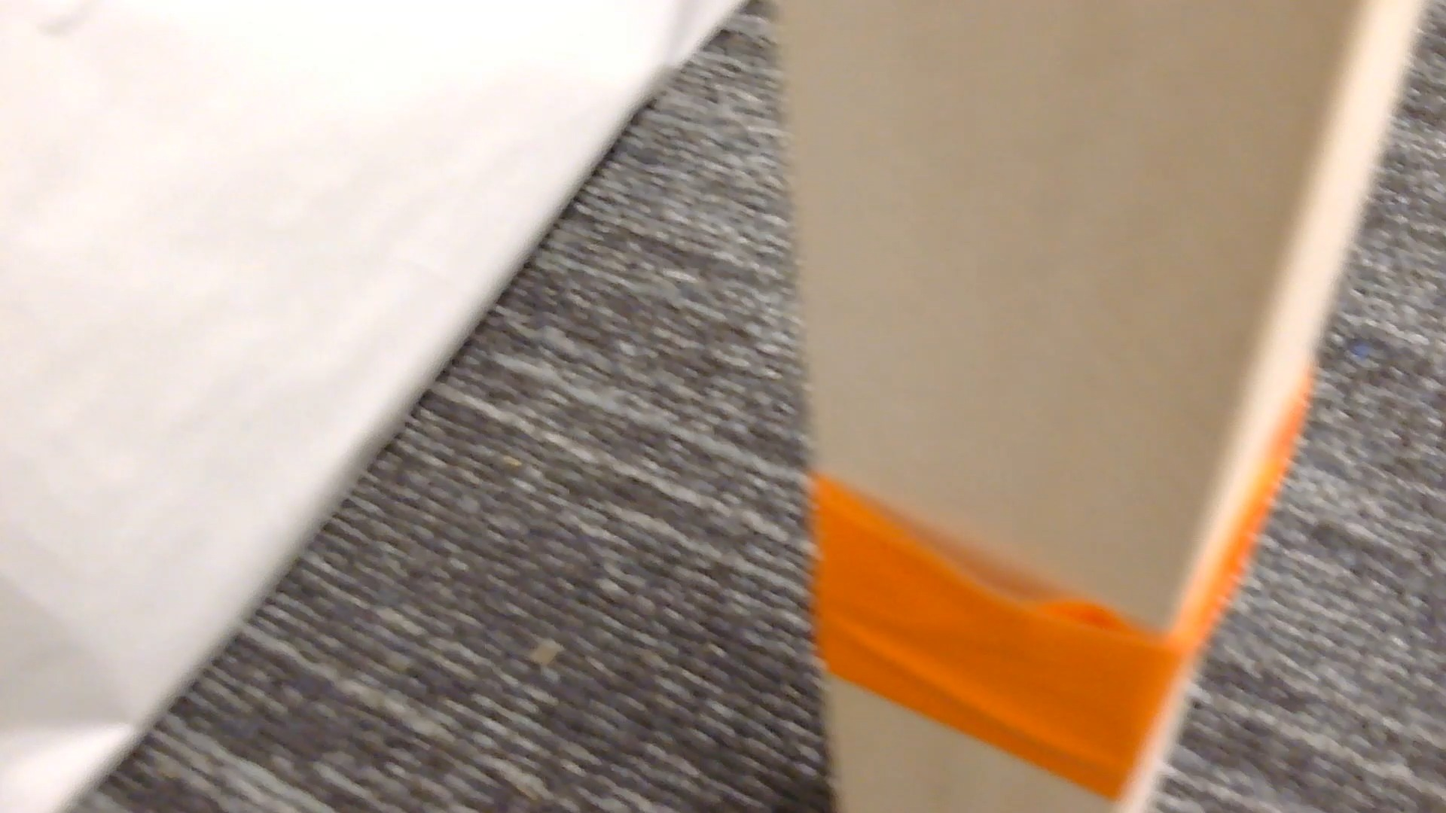Wooden Block: (779, 0, 1424, 812)
